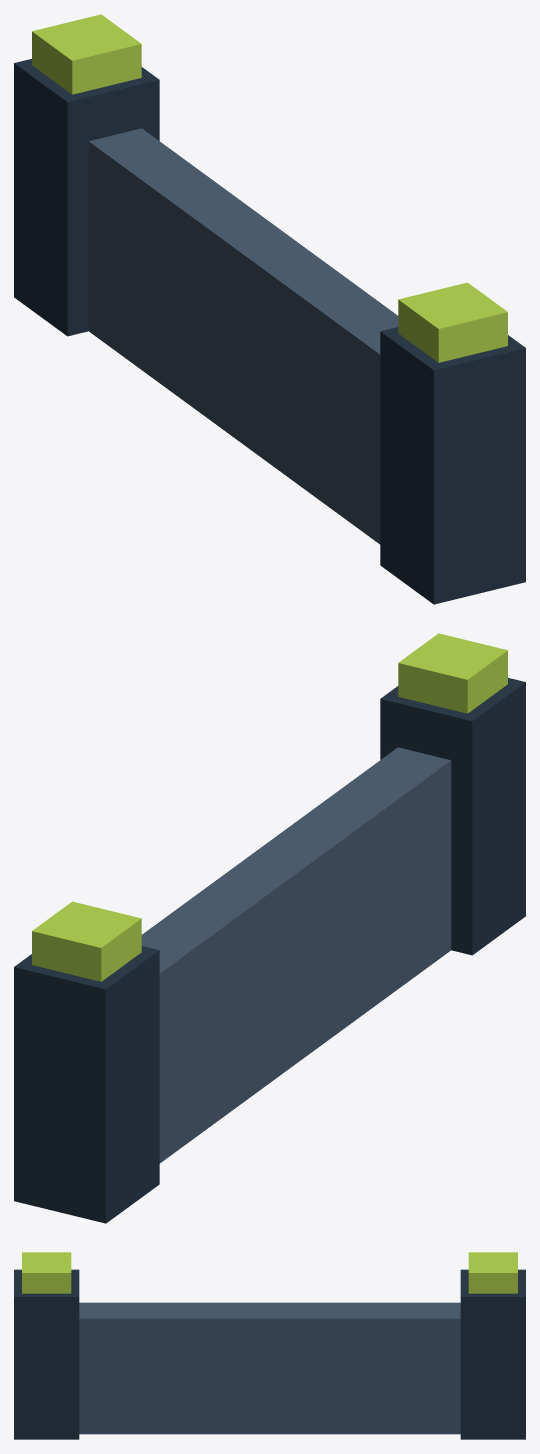
File: Fence_2-1.fbx
3 renders of one model, top to bottom at view 1: azimuth 30°, elevation 25°; view 2: azimuth 150°, elevation 25°; view 3: azimuth 270°, elevation 25°, orthographic. The views are drawn at different scales.
Visible parts, largest first — view 1: Fence_2-1; view 2: Fence_2-1; view 3: Fence_2-1.
Boxes of the visible parts, <box> form: Fence_2-1: <box>14,14,525,604</box>; Fence_2-1: <box>14,633,525,1223</box>; Fence_2-1: <box>14,1252,525,1439</box>.
Bounding box in the file's own units: 4.47 × 12.44 × 35.31.
